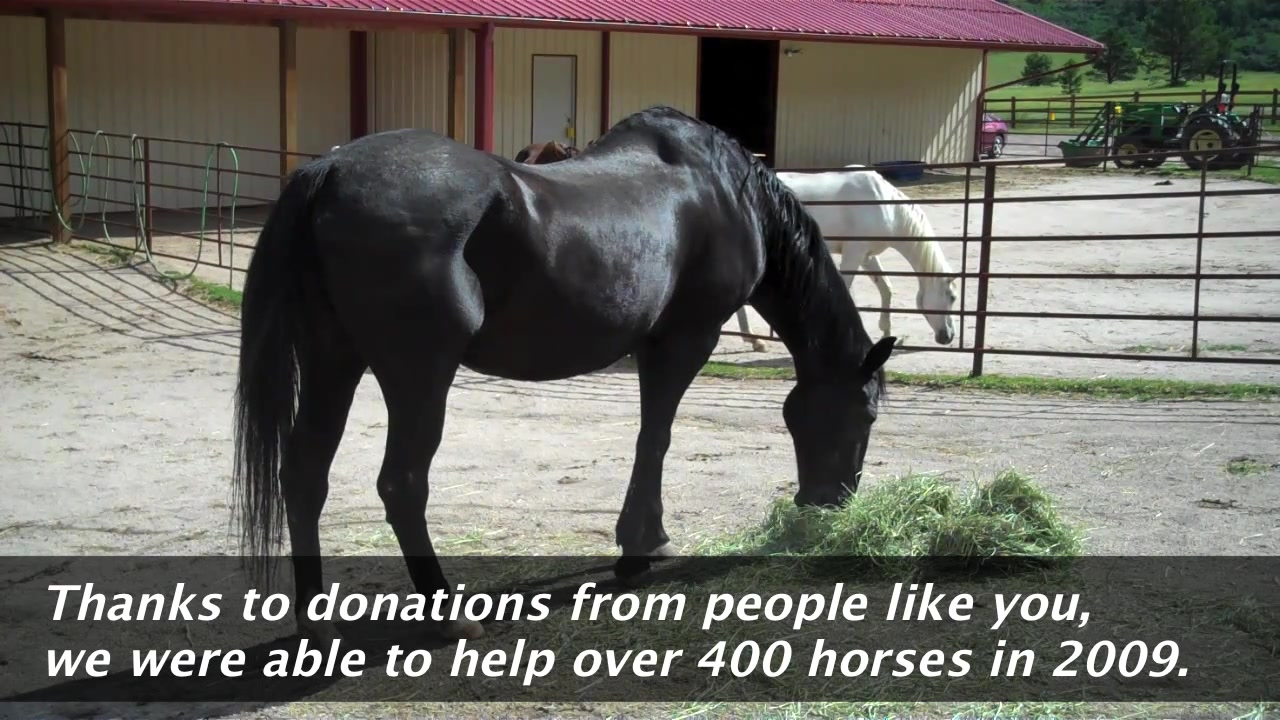horse: (229, 104, 907, 559), (734, 165, 968, 350)
